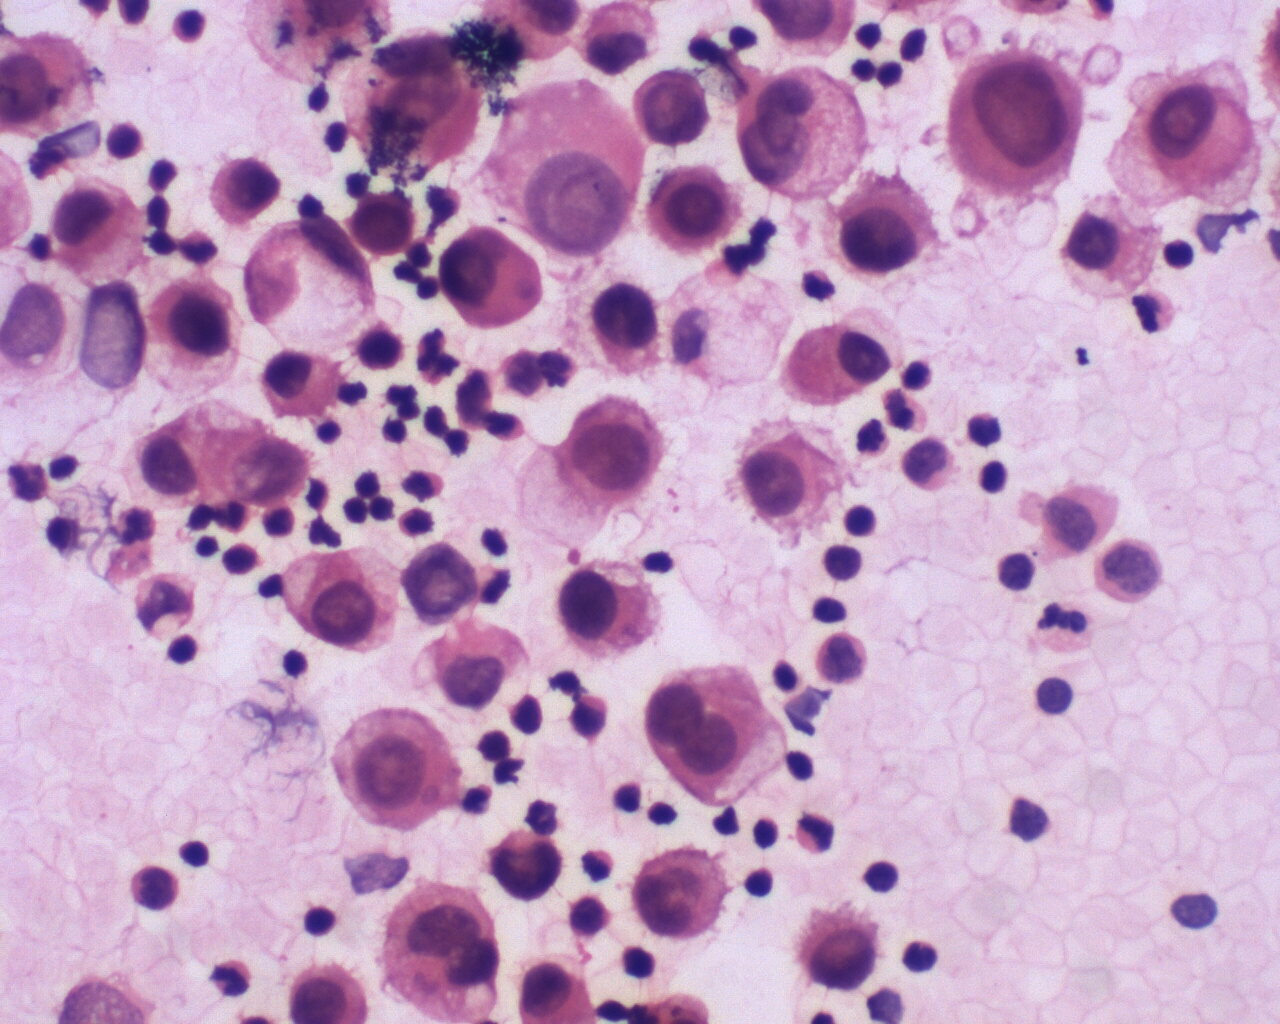ab: (939, 50, 1086, 197), (731, 52, 867, 196), (330, 700, 471, 836), (280, 541, 402, 662), (560, 395, 671, 507), (740, 426, 843, 544), (553, 554, 664, 664), (833, 174, 940, 278), (633, 843, 729, 947), (587, 280, 675, 380), (649, 162, 746, 251), (798, 899, 886, 994), (632, 64, 719, 152), (205, 148, 288, 232), (484, 820, 572, 900), (351, 184, 423, 259)
histo: (242, 212, 379, 355)
lymph: (1035, 671, 1083, 721), (177, 828, 223, 872), (838, 497, 884, 540), (976, 451, 1019, 496), (161, 629, 200, 673)
neutro: (207, 956, 257, 1000)
